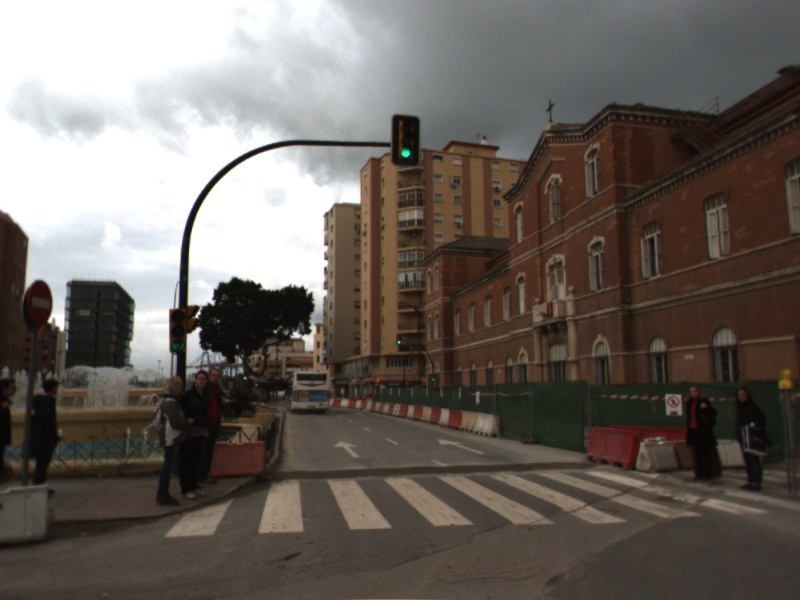STRAIGHT: (436, 436, 488, 457), (331, 437, 363, 459)
